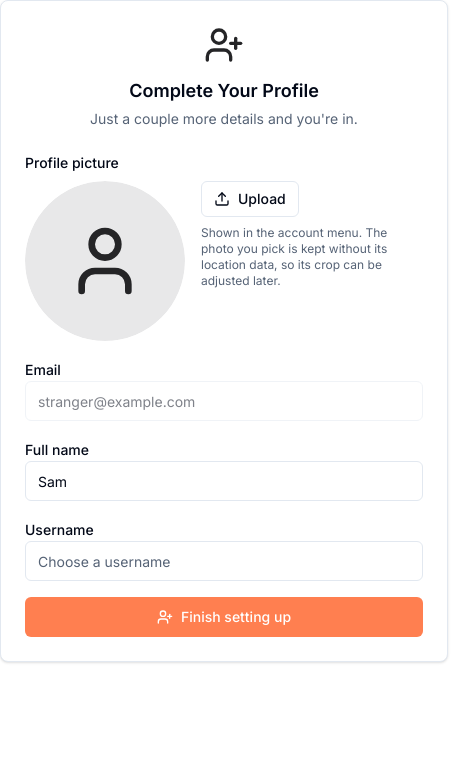
Test case: ProfileCompletionForm › shows the gate's refusal inline and stays on the form
Type "samreef" into the field labelled "Username". click: (224, 561)
box: [25,541,423,581]
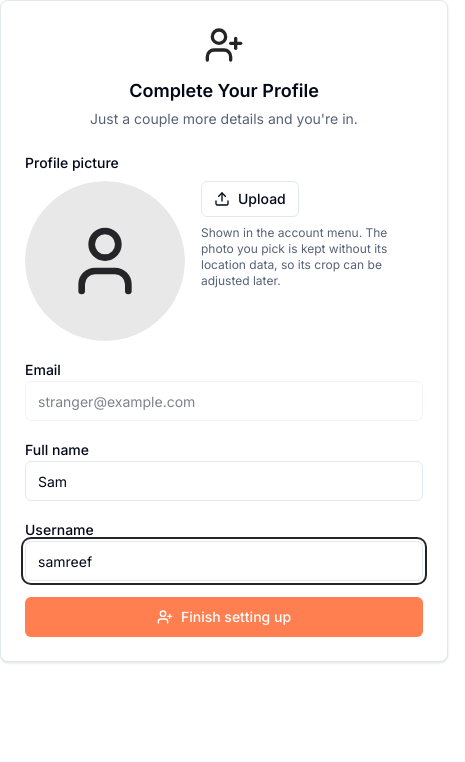
Click the button "Finish setting up". click: (224, 617)
box: [25,597,423,637]
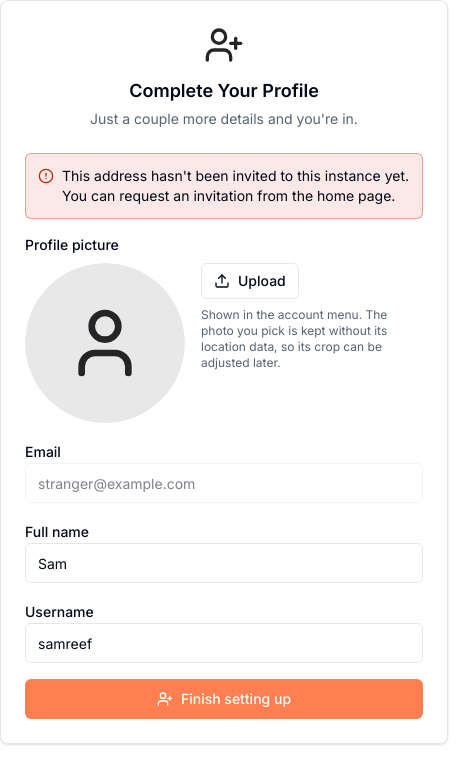
Expected: the text "hasn't been invited to this instance yet" is shown, [62,167,409,204]
